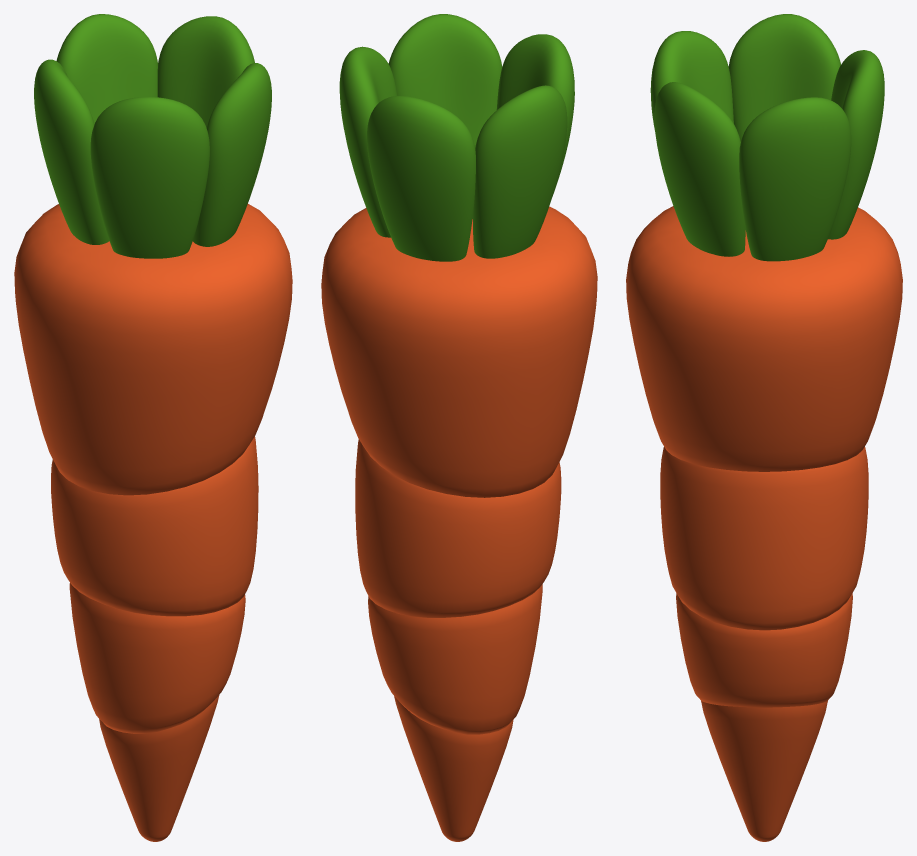
Rendered from carrot.fbx.
3 views of the same model, side by side, from view 1: azimuth 30°, elevation 25°; view 2: azimuth 150°, elevation 25°; view 3: azimuth 270°, elevation 25° (orthographic).
Parts seen in each view (by area): view 1: Plane.005; view 2: Plane.005; view 3: Plane.005.
Part boxes in pixels (box(x1,y1,x2,y2)): Plane.005: box(14, 14, 292, 841); Plane.005: box(321, 14, 597, 841); Plane.005: box(626, 14, 902, 841).
Bounding box in the file's own units: 18.39 × 57.26 × 18.39.
